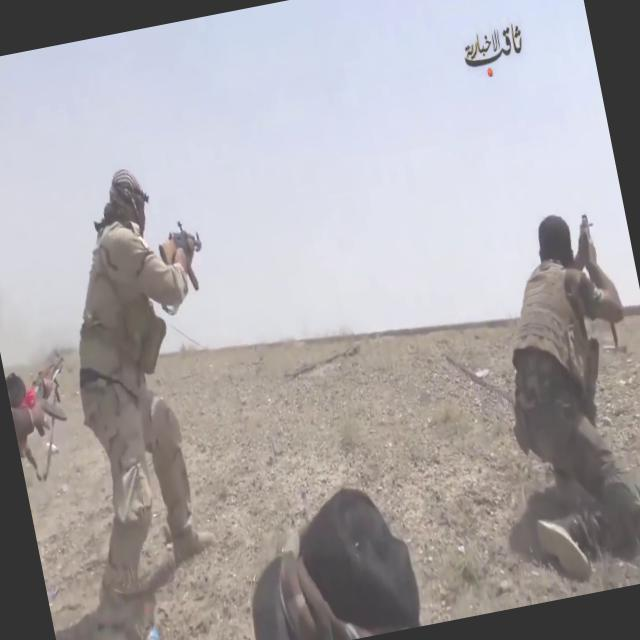long weapon: (151, 220, 222, 304), (564, 200, 610, 282)
